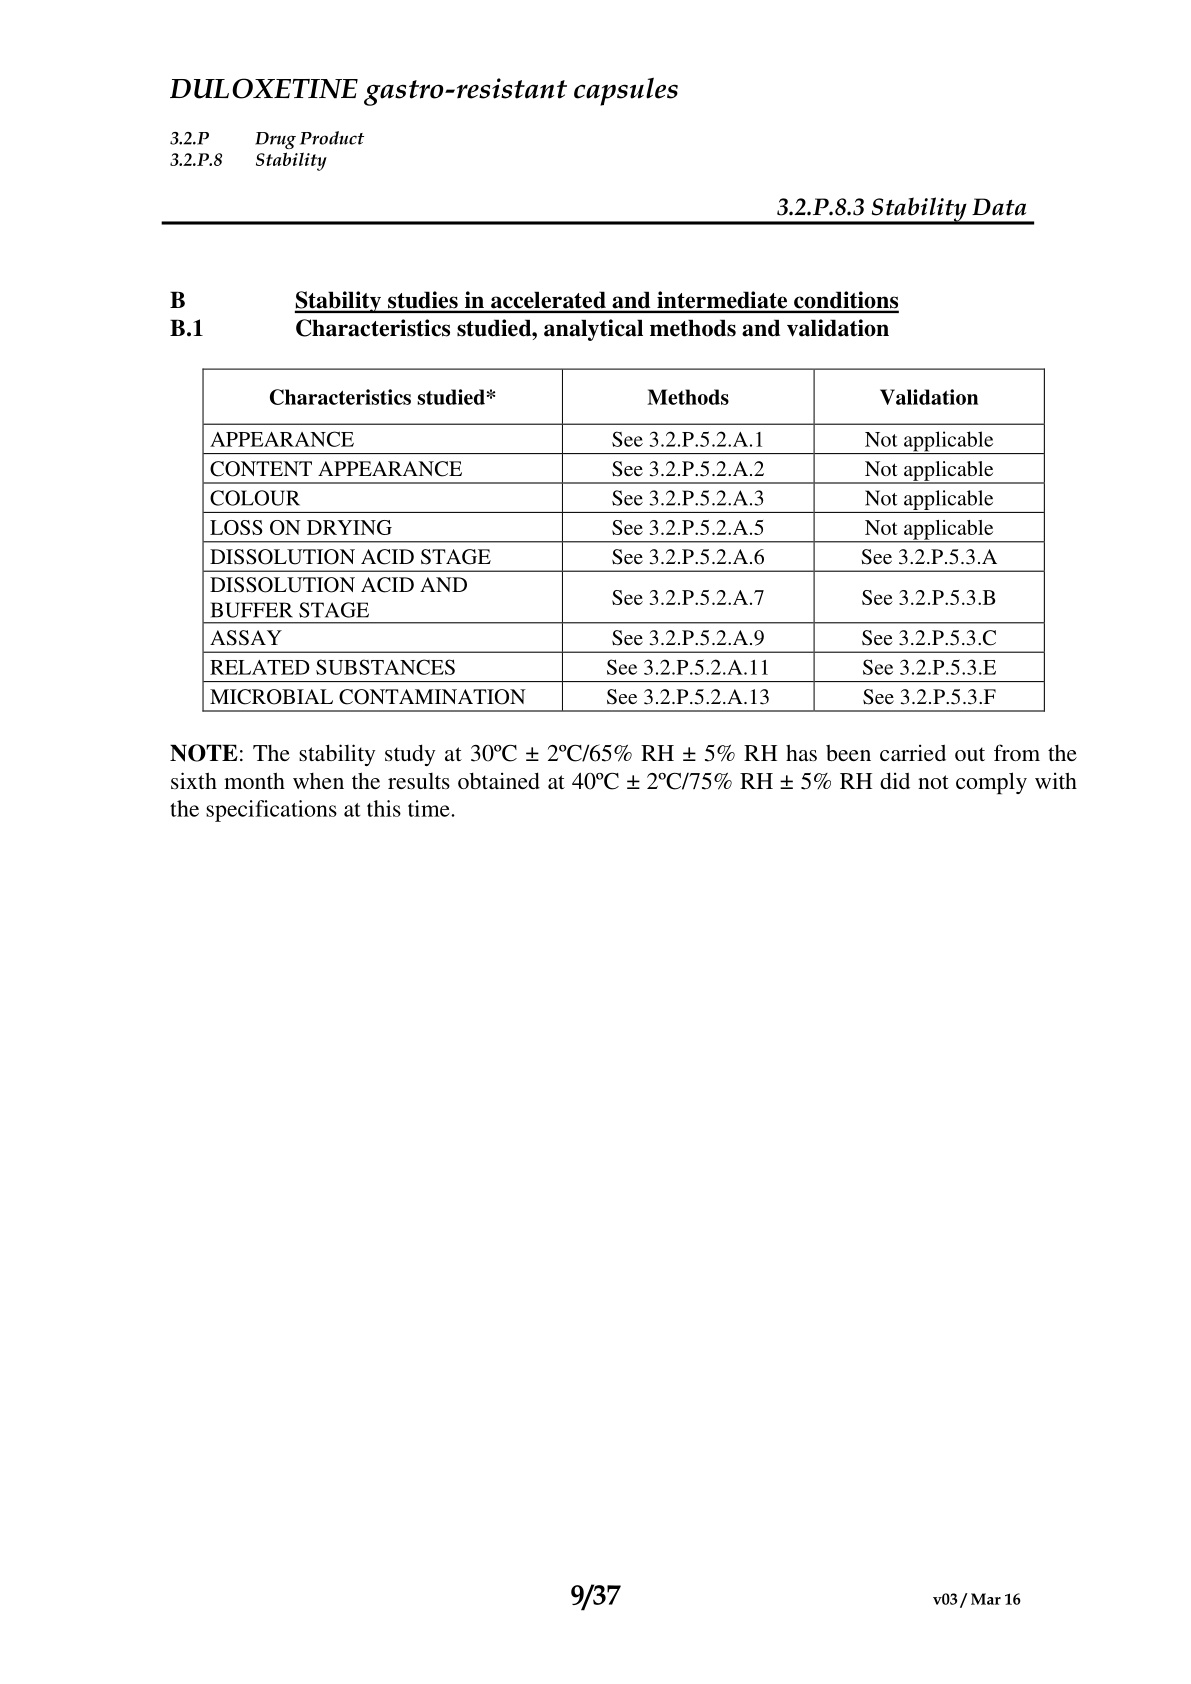full_lined: (202, 367, 1047, 713)
